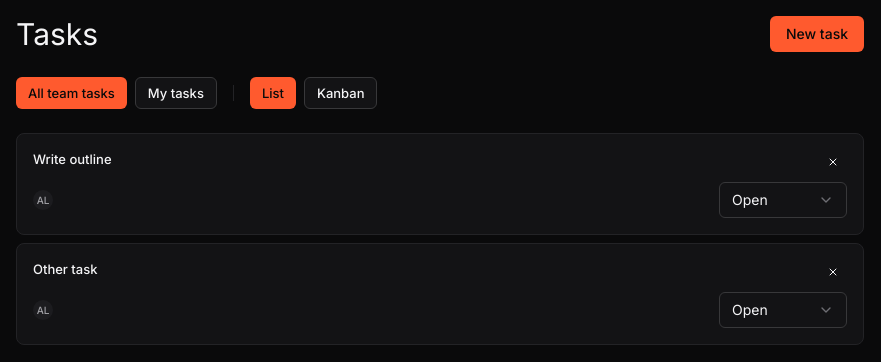
Scenario: TasksClient › filters to my tasks
Check: the button "Write outline" is shown, box [33,150,112,168]
Check: the button "Other task" is shown, box [33,260,98,278]
Click the button "My tasks" at (176, 93), box [135,77,217,109]
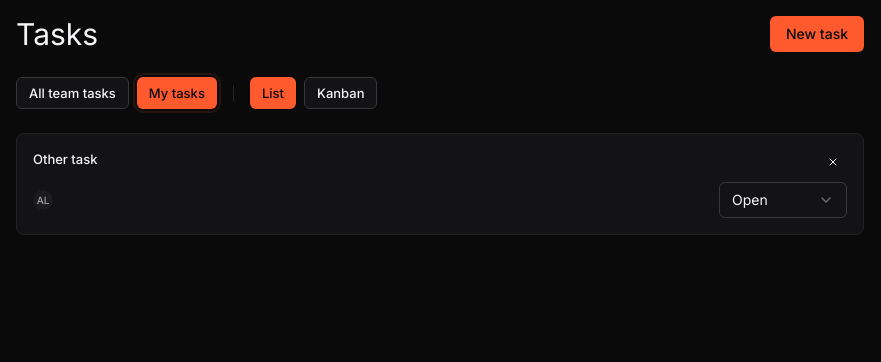
Check: the button "Other task" is shown, box [33,150,98,168]
Check: the button "Write outline" is gone
